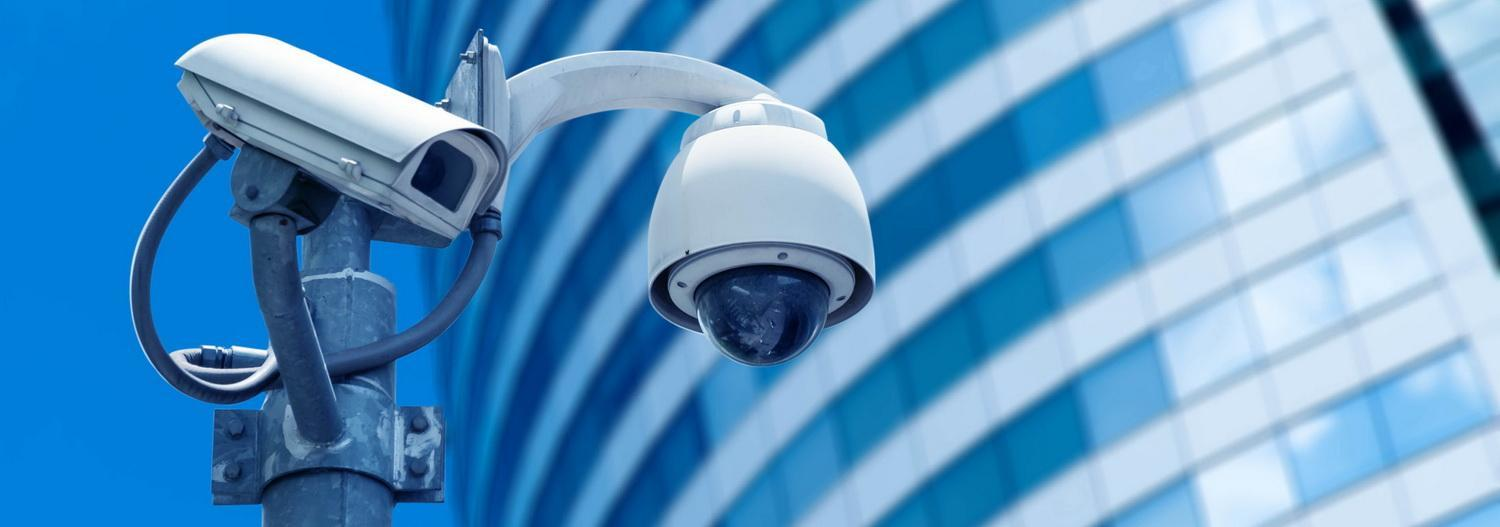CCTV: (174, 32, 507, 246), (649, 94, 876, 365)
